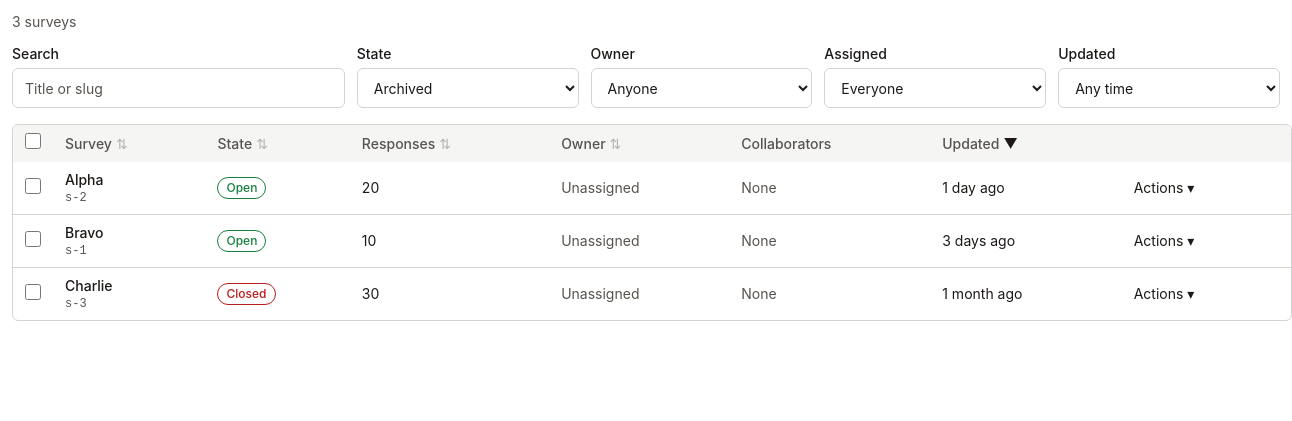
Scenario: SurveyList › offers Restore in the archived view and a per-row menu
Click the checkbox named "Select Alpha" at [33, 186], box [25, 178, 41, 194]
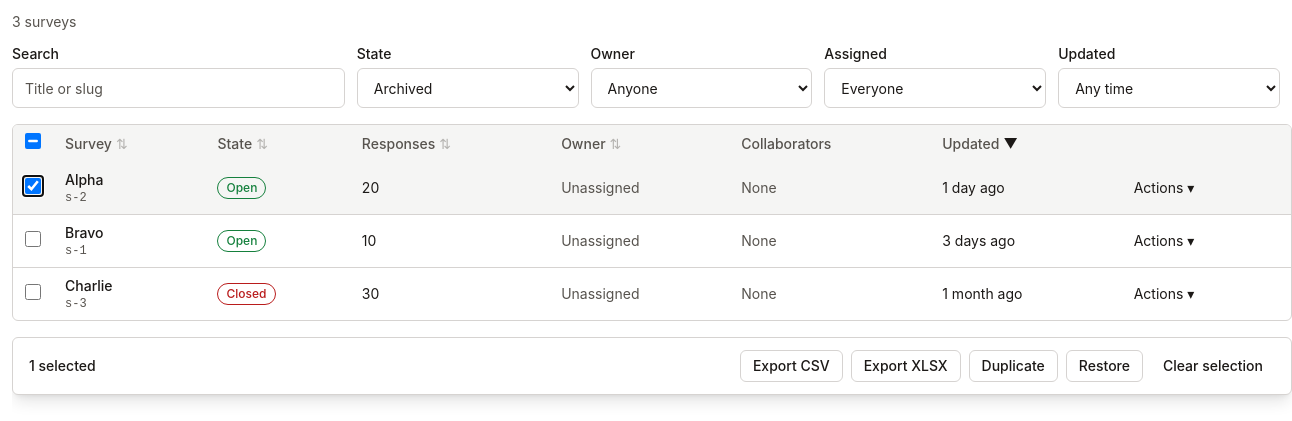
Result: the button "Restore" is shown at [1066, 350, 1143, 382]
